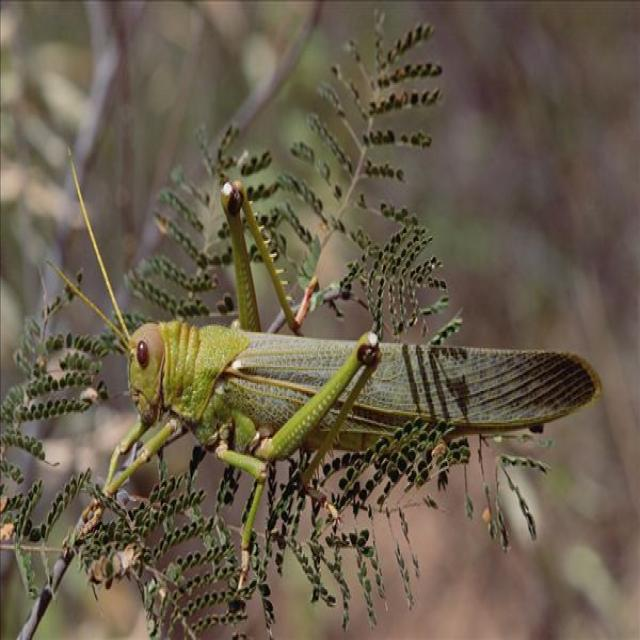ZhaMeng: (92, 286, 610, 538)
